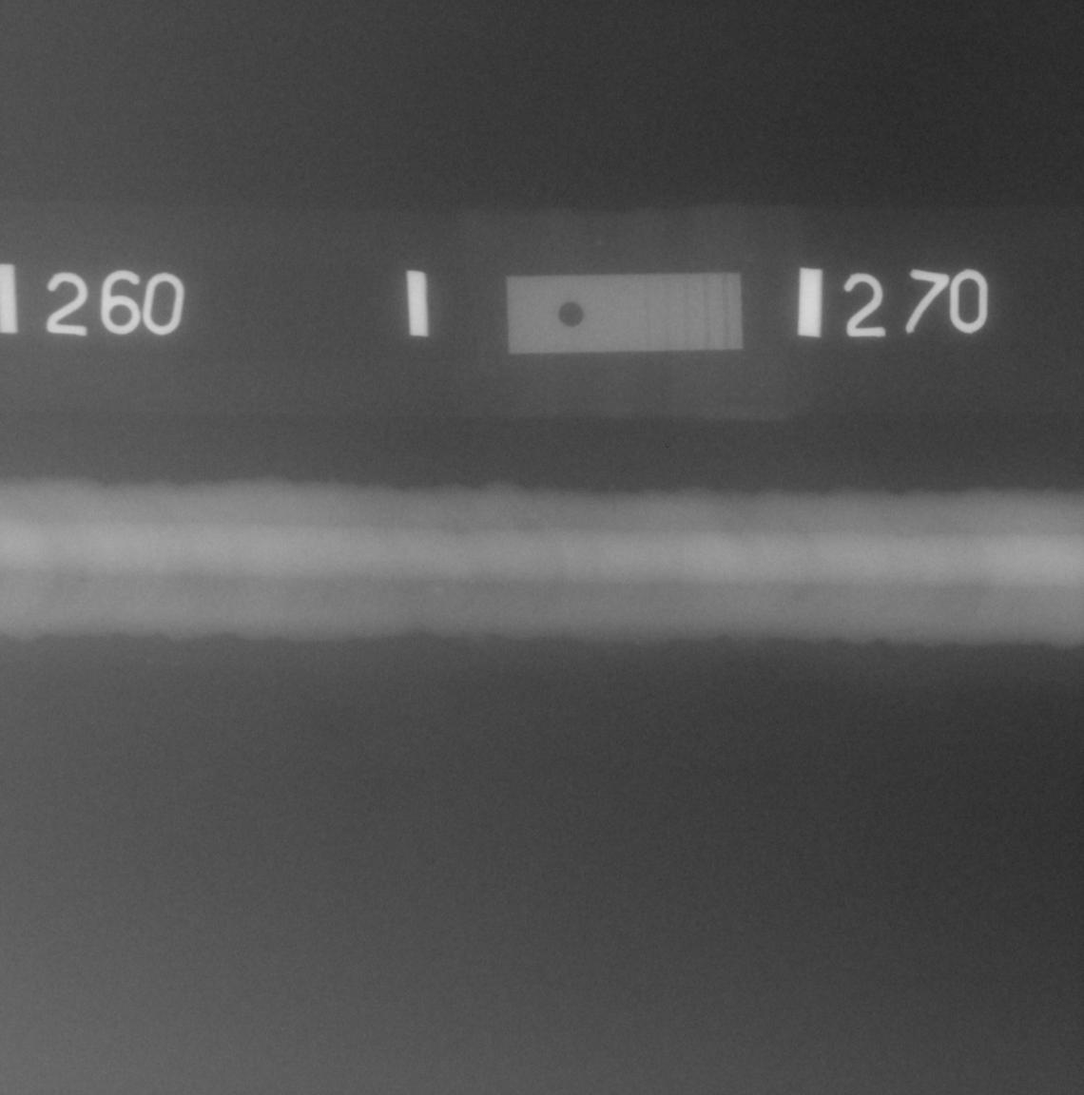Pore/Porosity: (78, 576, 86, 583), (301, 549, 308, 555)
Reference Standard 1: (505, 272, 744, 355)
